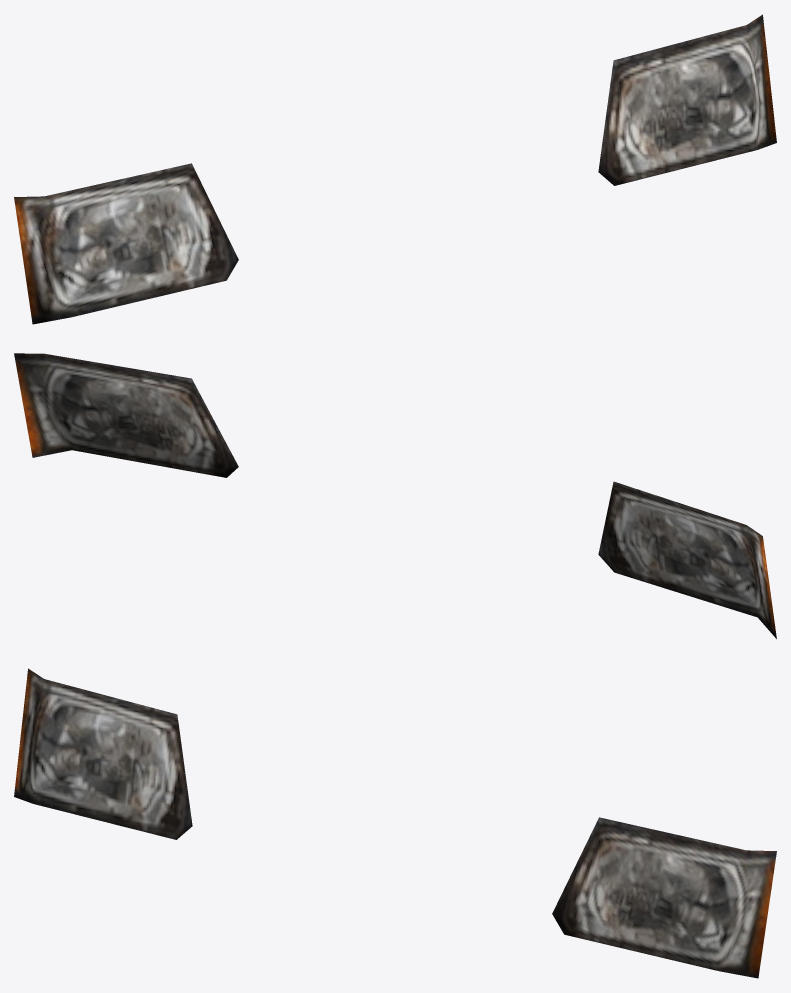
Rendered from Car_Lamp.fbx.
3 renders of one model, top to bottom at view 1: azimuth 30°, elevation 25°; view 2: azimuth 150°, elevation 25°; view 3: azimuth 330°, elevation 25°, orthographic.
Parts seen in each view (by area): view 1: Car01.001; view 2: Car01.001; view 3: Car01.001.
Boxes of the visible parts, x1,y1,x2,y2 form: Car01.001: (14,14,776,324); Car01.001: (14,353,776,638); Car01.001: (14,668,776,978).
Size of the model in its own units: 1.44 by 0.2217 by 0.1073.
Materials: 1 (1 with a texture image).
